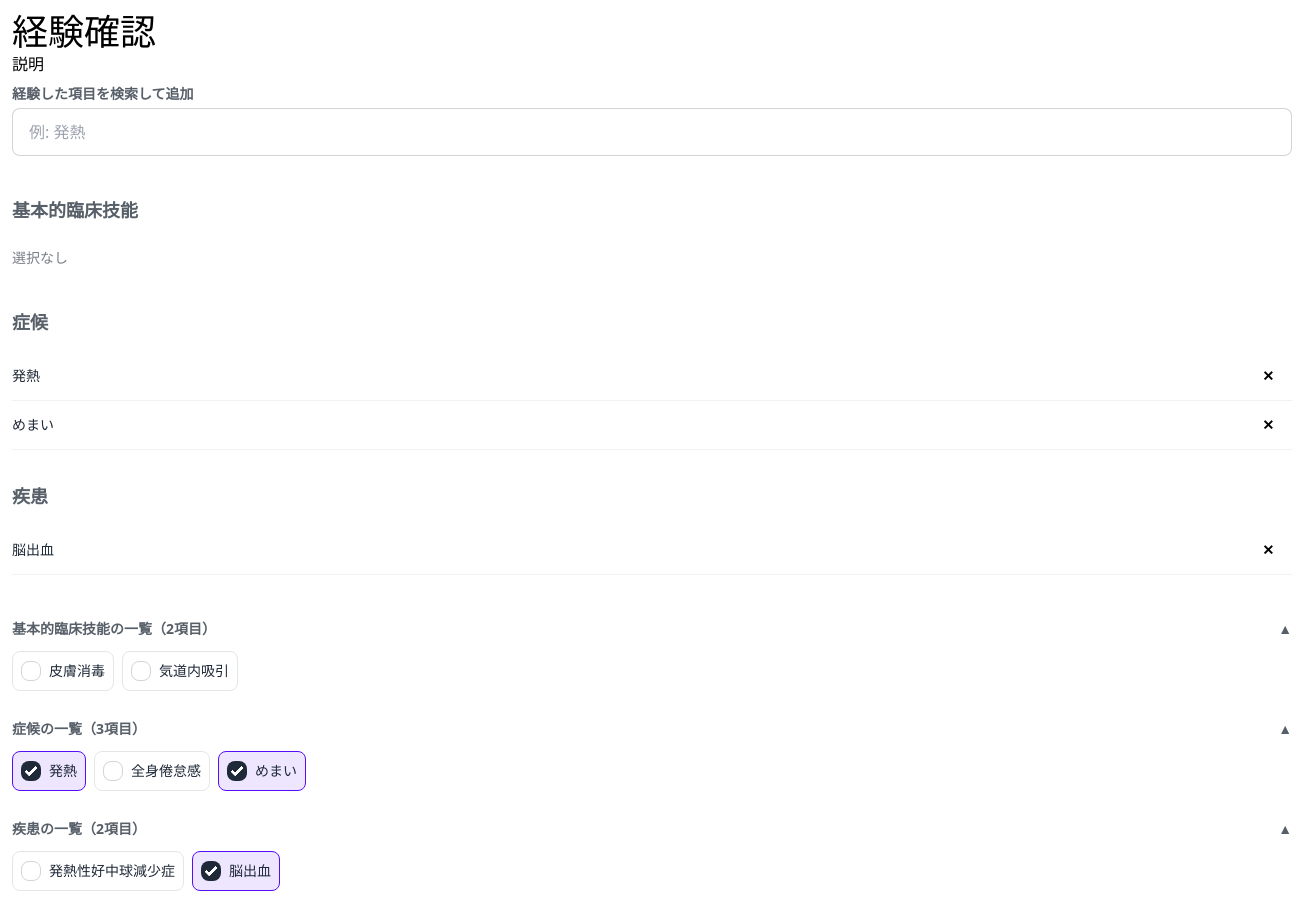
search layout display › collapses one category of the list and keeps its selections
Click the 5th button at (68, 728), box 12,707 -> 1292,751
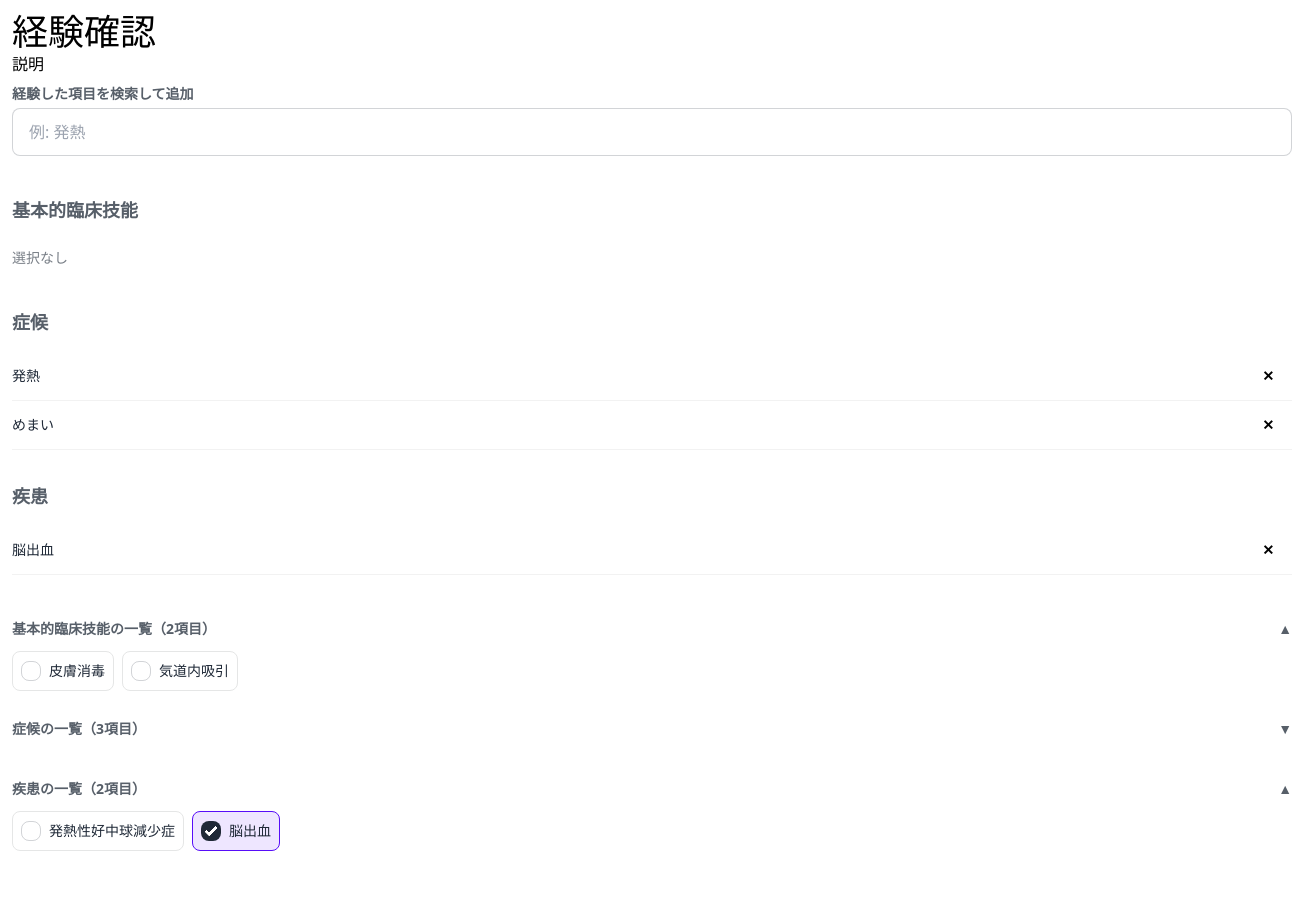
Result: the 5th button is collapsed at 12,707 -> 1292,751
